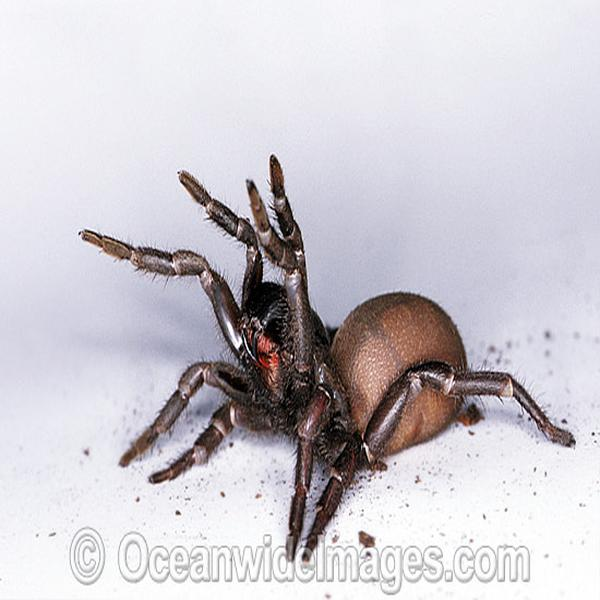Funnel Web Spider: (85, 154, 570, 552)
